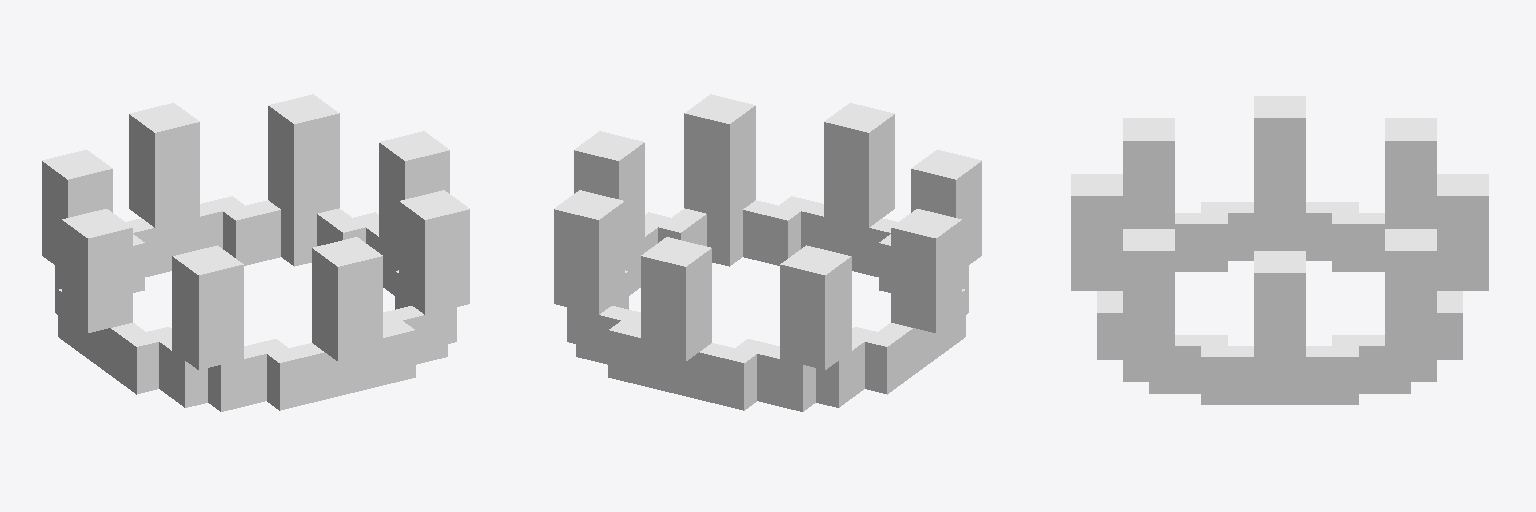
Rendered from crown.vox.obj.
3 views of the same model, side by side, from view 1: azimuth 30°, elevation 25°; view 2: azimuth 150°, elevation 25°; view 3: azimuth 270°, elevation 25° (orthographic).
Visible parts, largest first — view 1: object 1; view 2: object 1; view 3: object 1.
Boxes of the visible parts, <box> form: object 1: <box>42,94,469,411</box>; object 1: <box>554,94,981,411</box>; object 1: <box>1071,96,1488,404</box>.
Size of the model in its own units: 1.6 by 0.6 by 1.6.